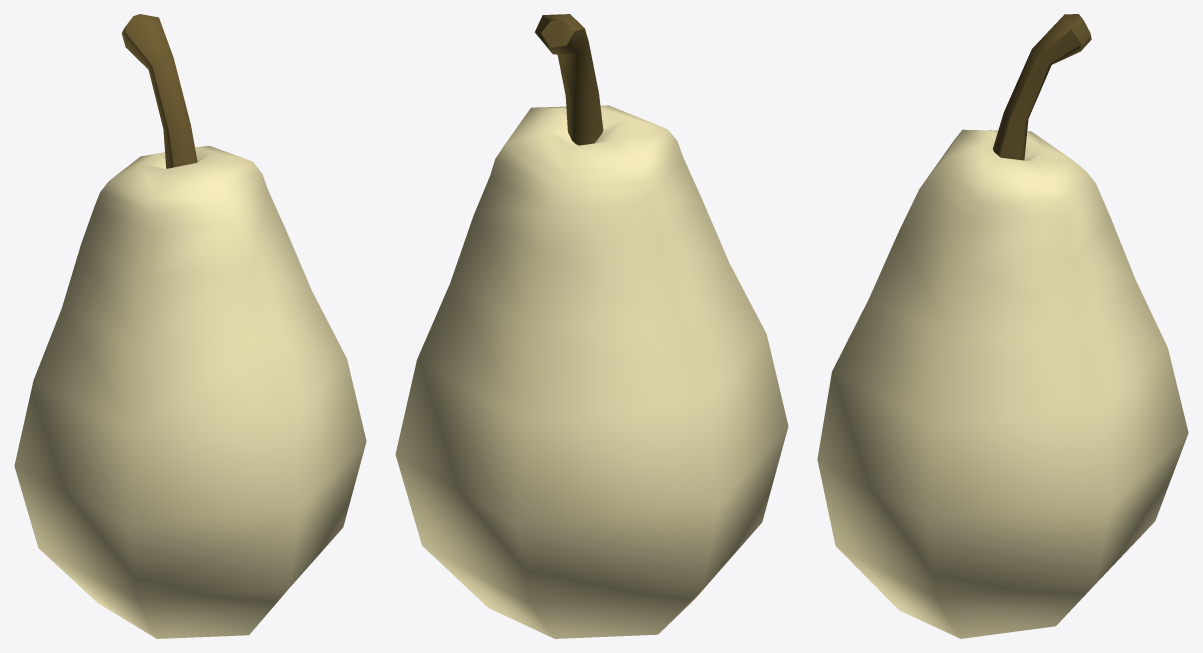
File: SM_Pear_Yellow.fbx
The picture shows the model from 3 angles, left to right: view 1: azimuth 30°, elevation 25°; view 2: azimuth 150°, elevation 25°; view 3: azimuth 270°, elevation 25°; orthographic projection. The views are drawn at different scales.
Parts seen in each view (by area): view 1: SM_Pear_Yellow; view 2: SM_Pear_Yellow; view 3: SM_Pear_Yellow.
Part boxes in pixels (x1=…): SM_Pear_Yellow: x1=14, y1=14, x2=366, y2=638; SM_Pear_Yellow: x1=395, y1=14, x2=788, y2=638; SM_Pear_Yellow: x1=817, y1=14, x2=1188, y2=638.
Size of the model in its own units: 0.0649 by 0.1231 by 0.0697.
